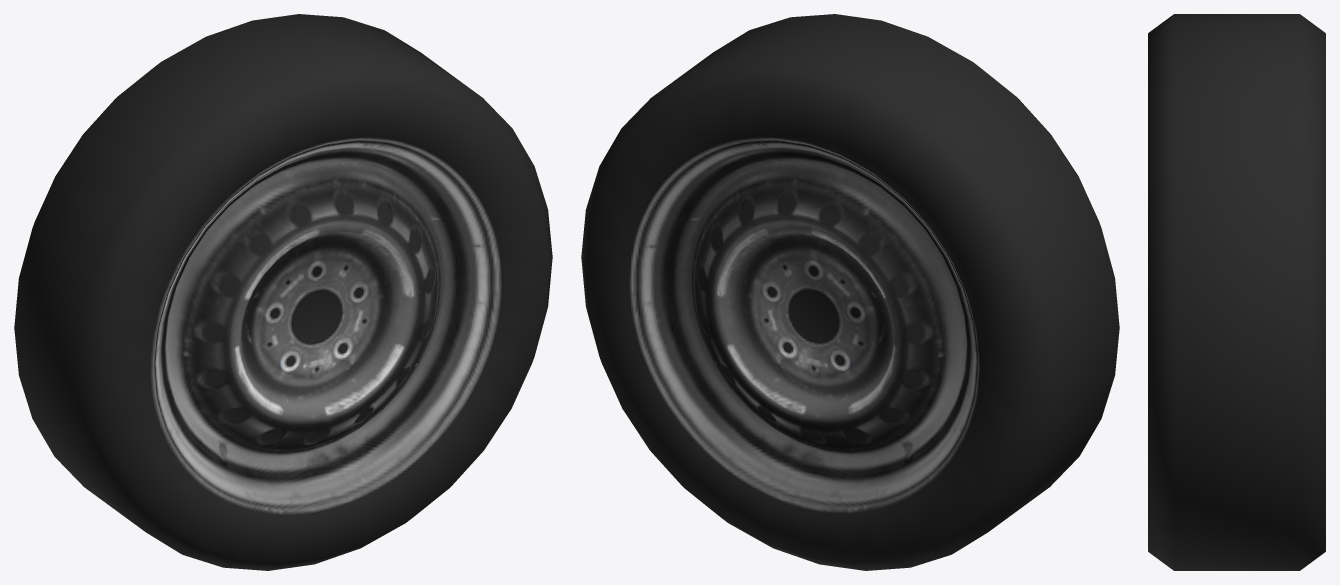
The model's file is wheel.glb.
3 renders of one model, left to right at view 1: azimuth 30°, elevation 25°; view 2: azimuth 150°, elevation 25°; view 3: azimuth 270°, elevation 25°, orthographic.
Visible parts, largest first — view 1: Wheel.003_Cylinder.001; view 2: Wheel.003_Cylinder.001; view 3: Wheel.003_Cylinder.001.
Part boxes in pixels (box(x1,y1,x2,y2)): Wheel.003_Cylinder.001: box(14, 14, 552, 570); Wheel.003_Cylinder.001: box(581, 14, 1119, 570); Wheel.003_Cylinder.001: box(1148, 14, 1325, 570).
Bounding box in the file's own units: 0.7 × 0.7 × 0.2233.
1 material, 1 textured.
